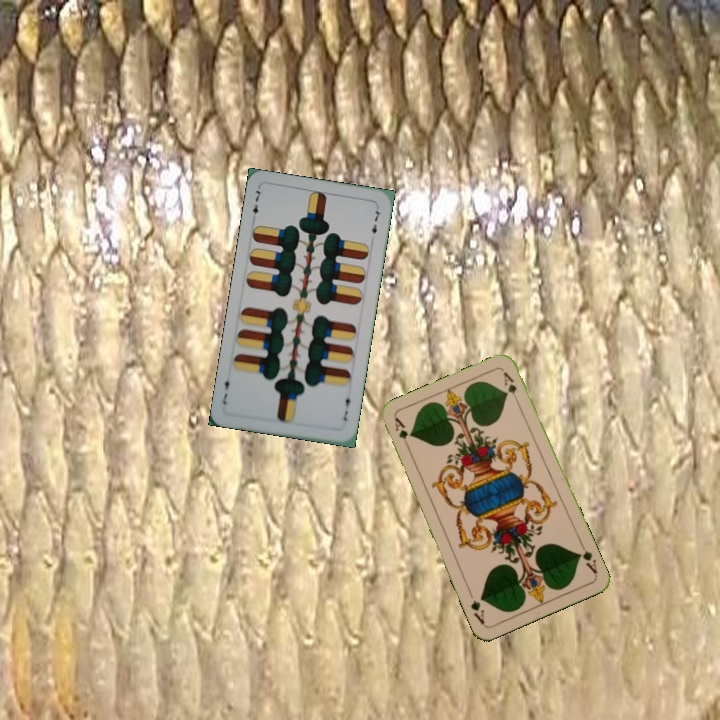E7: (248, 184, 265, 225), (339, 390, 353, 424)
GA: (574, 539, 600, 577), (390, 414, 413, 453)
